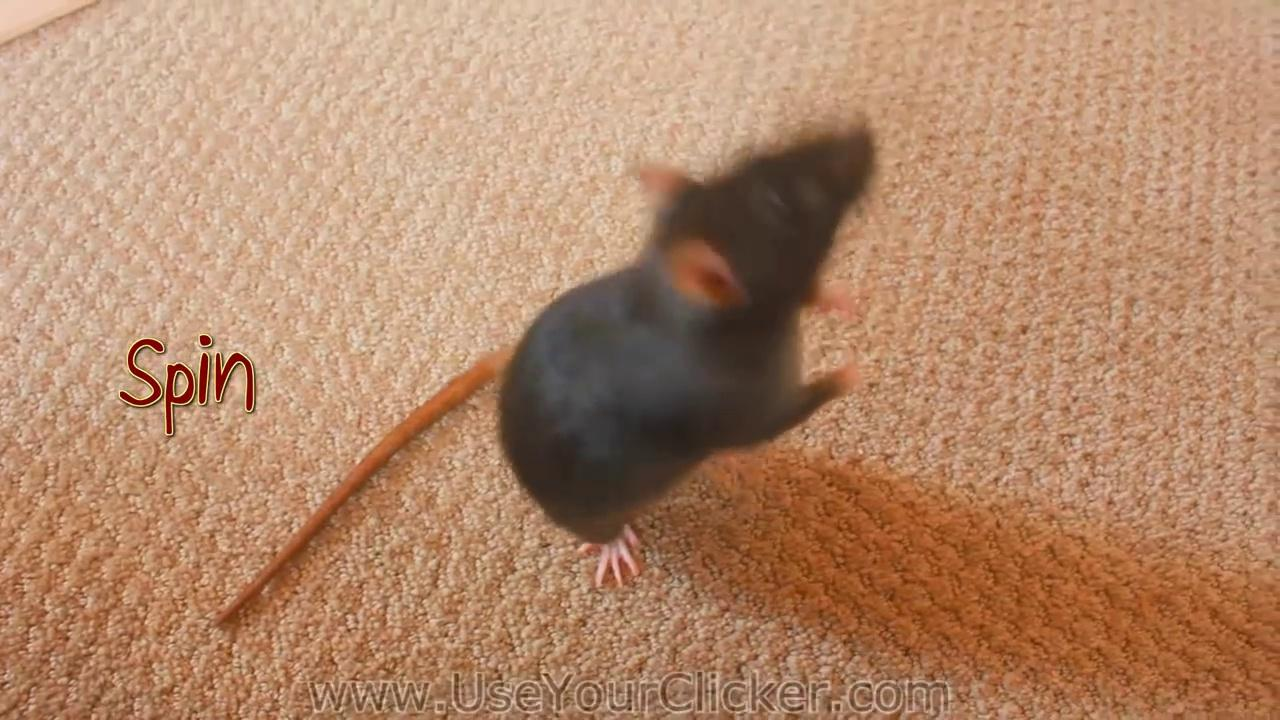rat: (214, 123, 875, 627)
